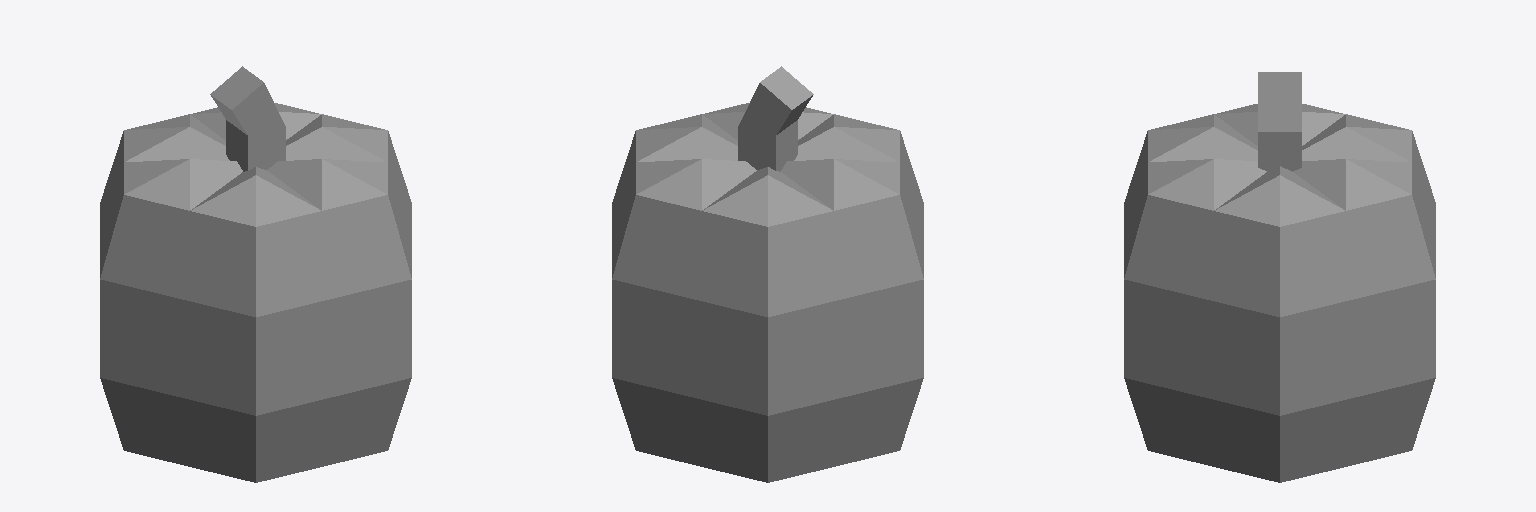
Rendered from pumpkin_03_01_b.obj.
The picture shows the model from 3 angles: view 1: azimuth 30°, elevation 25°; view 2: azimuth 150°, elevation 25°; view 3: azimuth 270°, elevation 25°; orthographic projection.
Visible parts, largest first — view 1: pumpkin_03_01_b; view 2: pumpkin_03_01_b; view 3: pumpkin_03_01_b.
Boxes of the visible parts, box(x1,y1,x2,y2) form: pumpkin_03_01_b: box(100, 66, 411, 482); pumpkin_03_01_b: box(612, 66, 923, 482); pumpkin_03_01_b: box(1124, 72, 1435, 482).
Size of the model in its own units: 1.38 by 1.54 by 1.19.